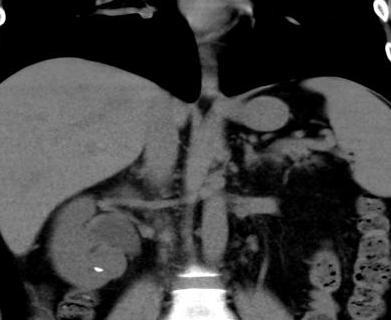Tas_Var: (93, 264, 107, 278)
